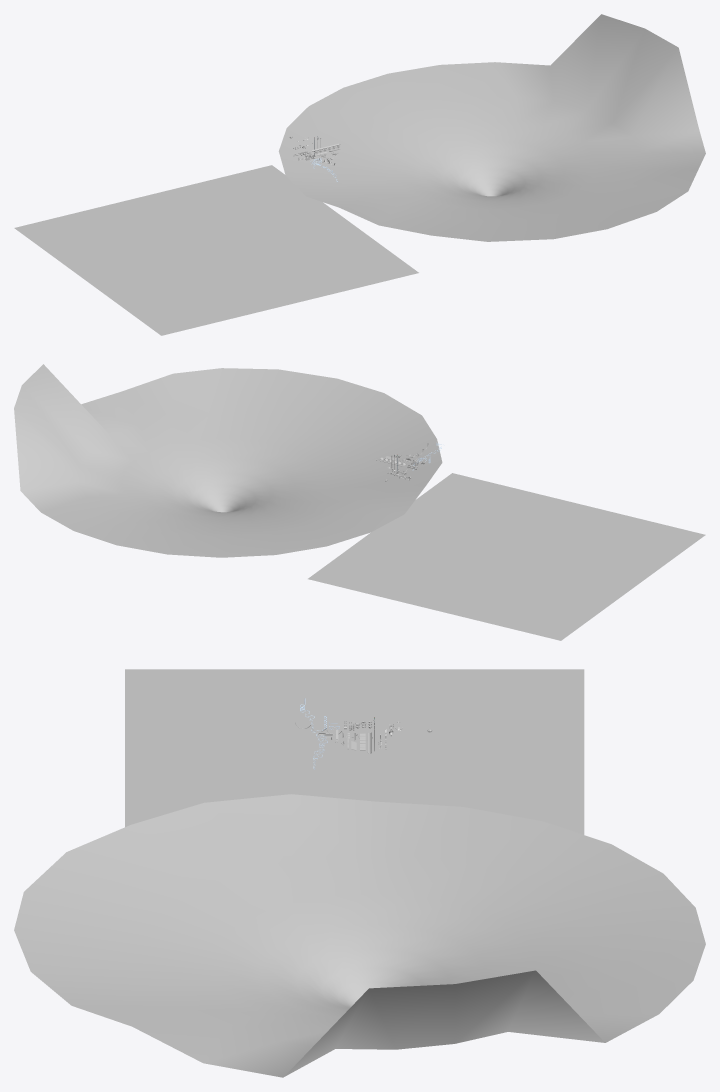
File: ballancestuff.fbx
The picture shows the model from 3 angles, top to bottom: view 1: azimuth 30°, elevation 25°; view 2: azimuth 150°, elevation 25°; view 3: azimuth 270°, elevation 25°; orthographic projection. The views are drawn at different scales.
Visible parts, largest first — view 1: SkyLayer (×2); view 2: SkyLayer (×2); view 3: SkyLayer (×2).
Boxes of the visible parts, bbox=[...] form: SkyLayer (×2): bbox=[14, 14, 705, 335]; SkyLayer (×2): bbox=[14, 364, 705, 640]; SkyLayer (×2): bbox=[14, 669, 705, 1077].
Bounding box in the file's own units: 4370 × 778 × 2823.
